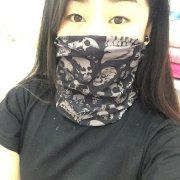OK: (57, 7, 142, 92)
